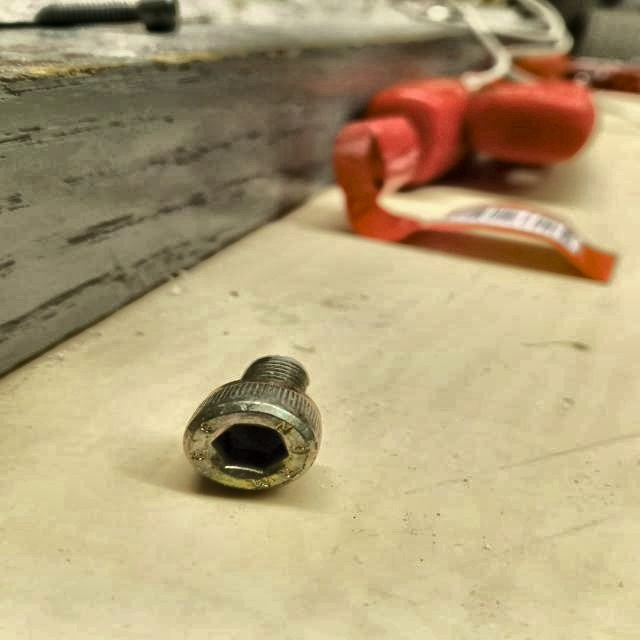allen: (184, 405, 315, 495)
